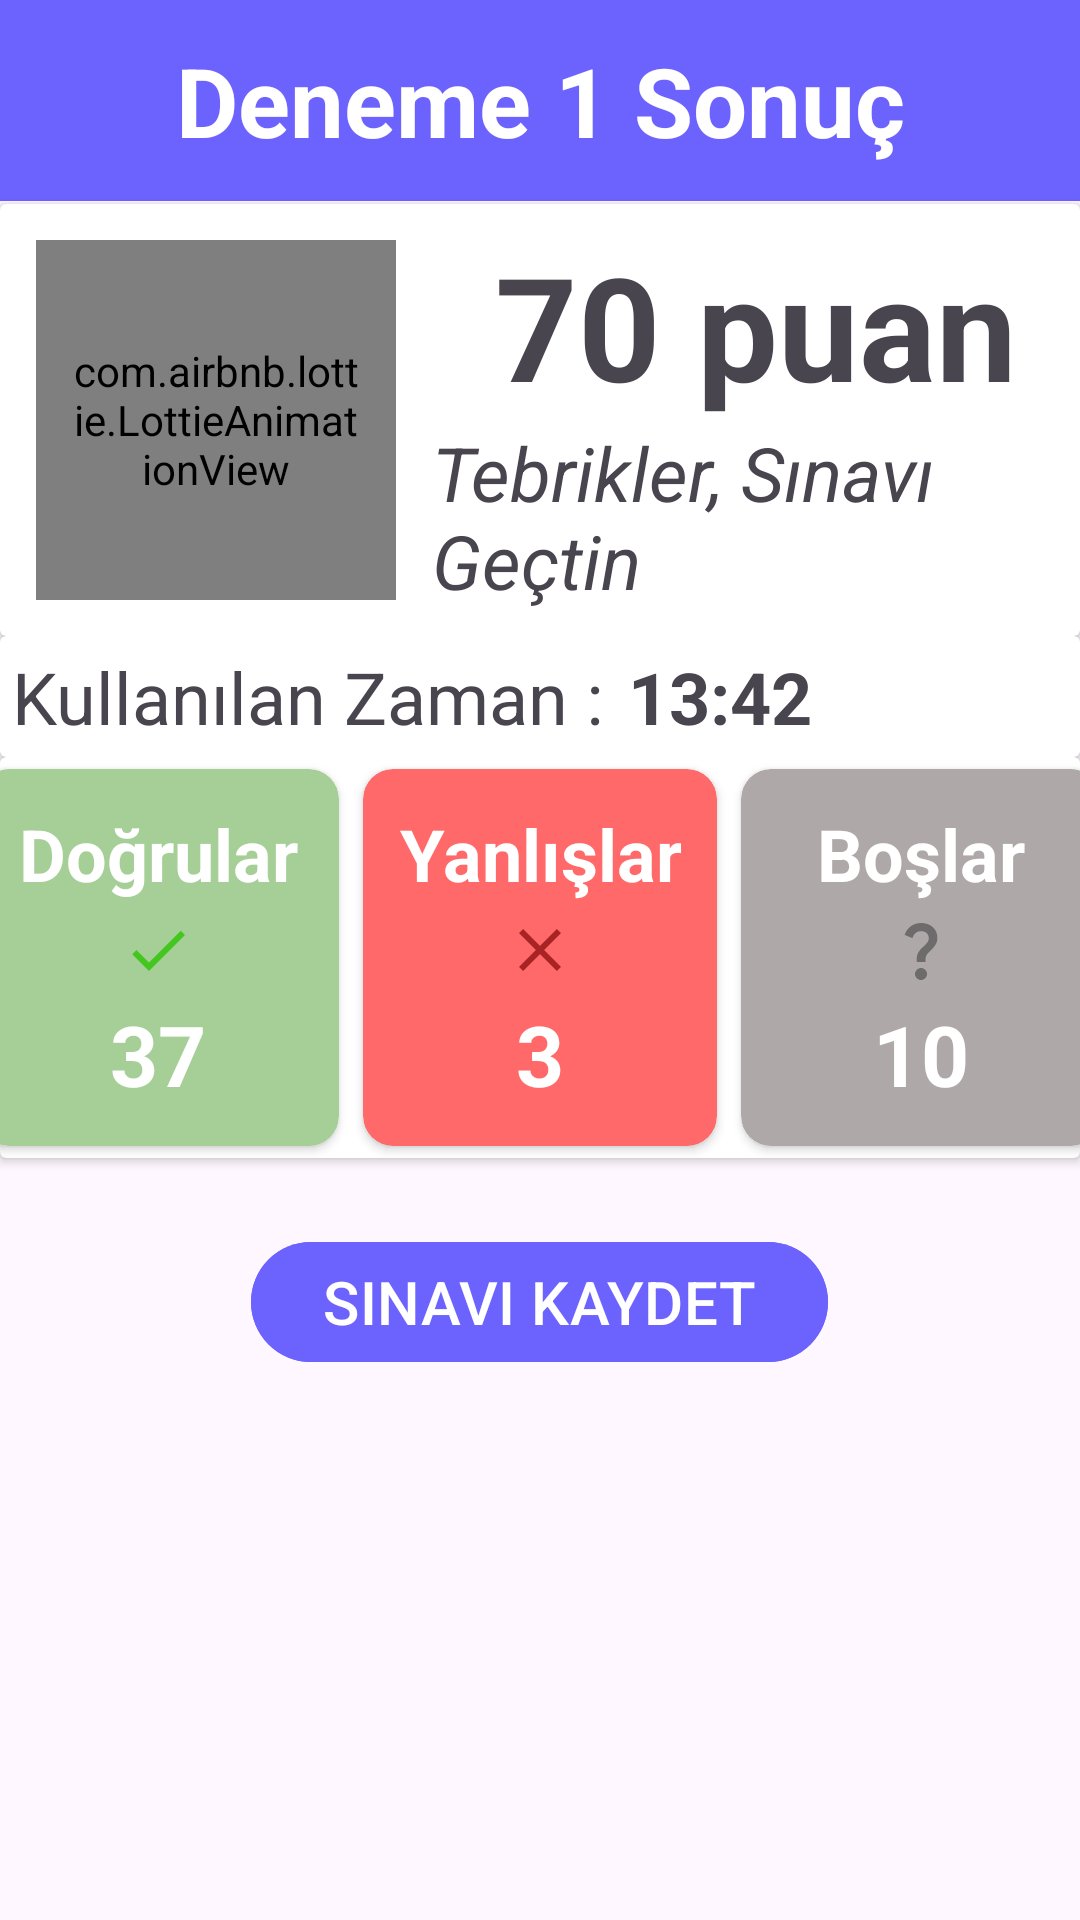

Named icons in this screenshot (1080 x 1920) and their bounding boxes, region(x1, y1, x2, y2):
check: region(132, 931, 185, 971)
clear: region(519, 929, 561, 971)
question mark: region(905, 923, 937, 980)
